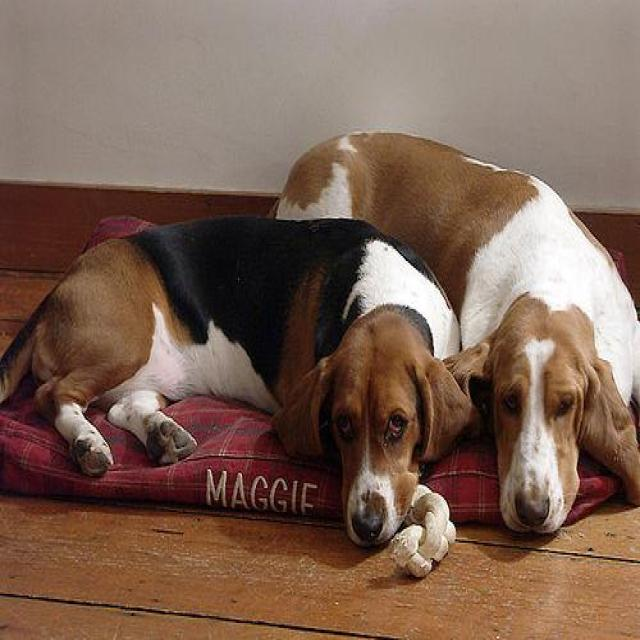basset: (0, 214, 483, 580), (272, 126, 638, 544)
